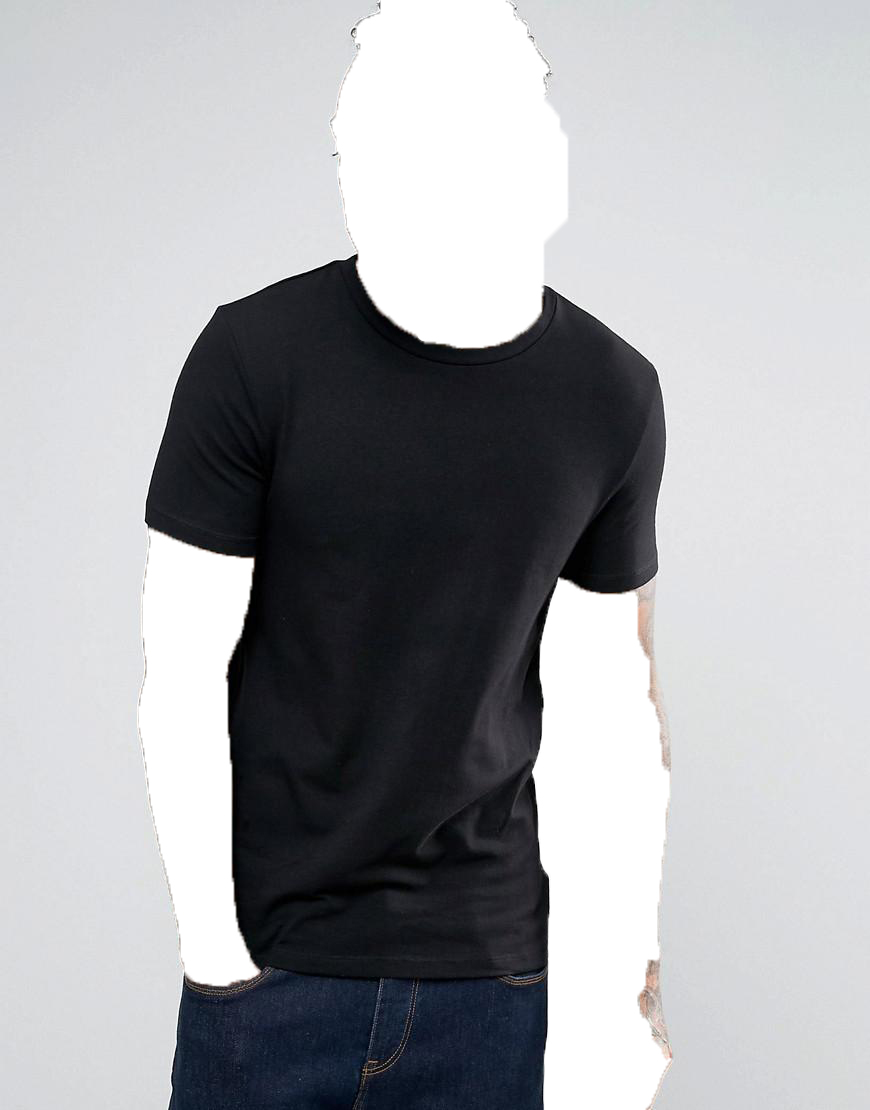teeshirt: (135, 252, 679, 983)
